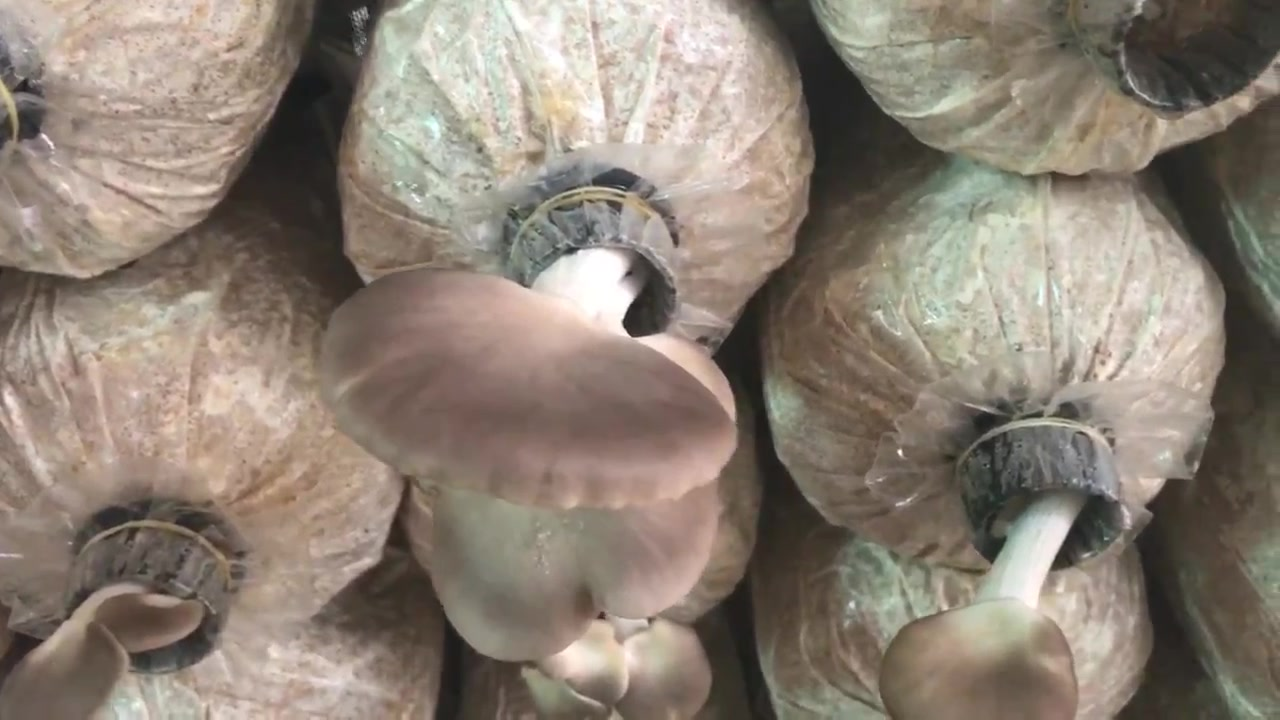nam: (318, 190, 735, 662), (880, 425, 1136, 717), (1, 530, 216, 720), (524, 620, 716, 720)
